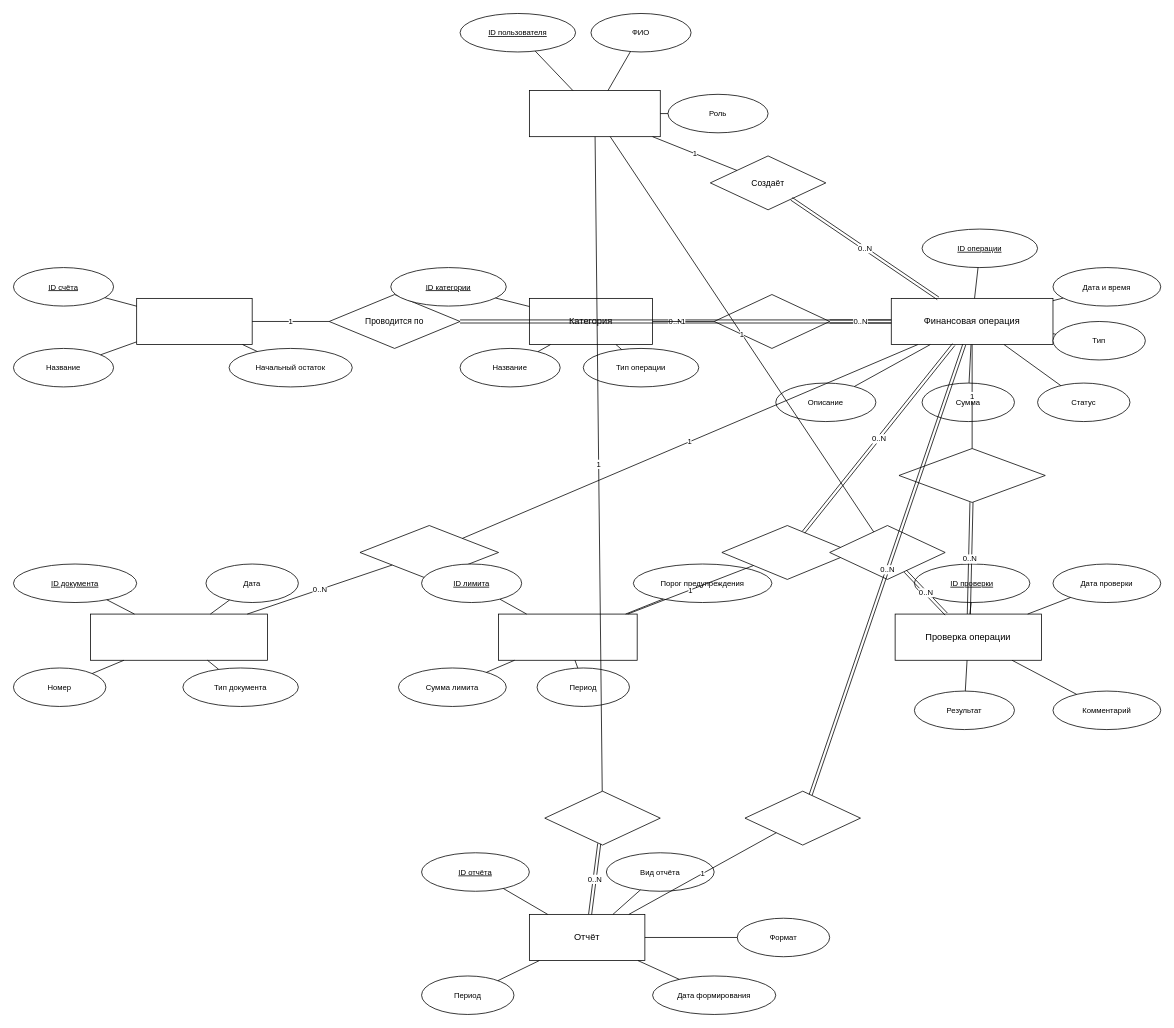
Some shapes in this 1174 by 1028 pixel diagram are drawn without their labels. Here are the shapes that lost their labels. From the top down, the box of each, then its label:
(529, 90, 660, 137): Пользователь
(136, 298, 252, 345): Счёт
(713, 294, 830, 348): Относится к
(898, 448, 1045, 502): Проходит проверку
(359, 525, 499, 579): Подтверждается
(721, 525, 853, 579): Контролируется
(829, 525, 945, 579): Выполняет
(90, 613, 268, 660): Подтверждающий документ
(498, 613, 637, 660): Лимит операции
(544, 790, 660, 845): Формирует
(744, 790, 860, 845): Содержит
